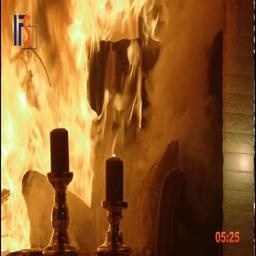fire: (2, 0, 120, 252)
